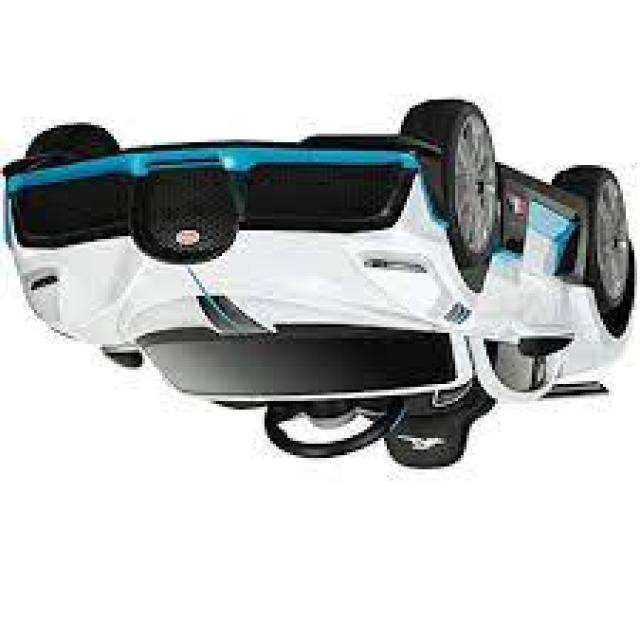Car: (0, 100, 637, 472)
